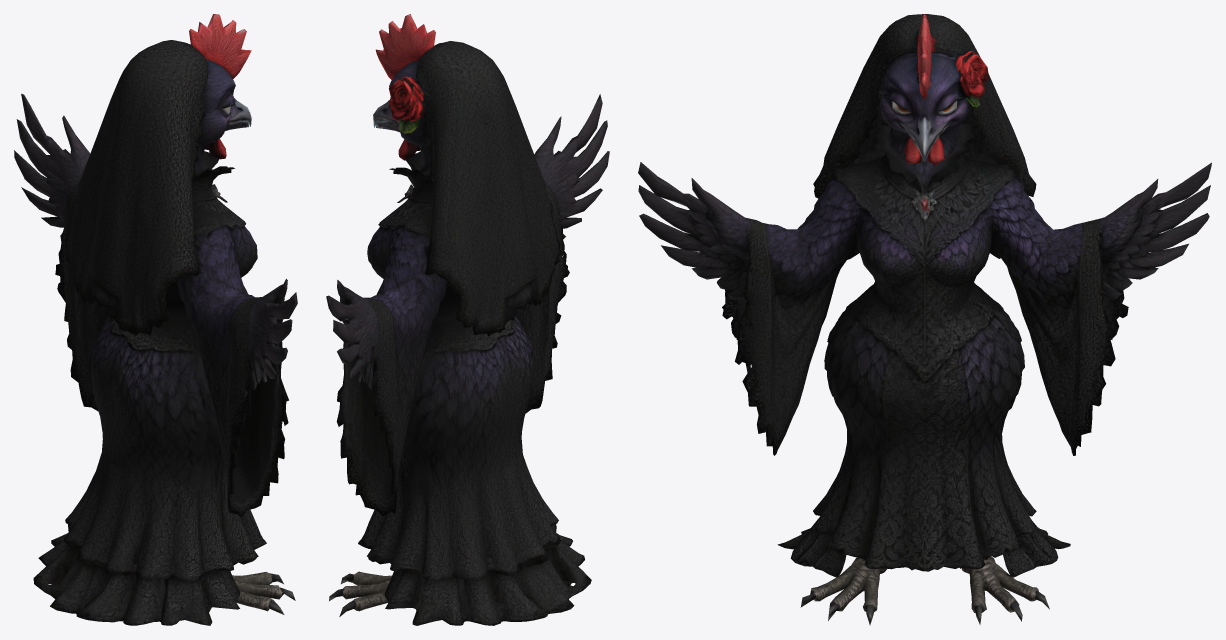
Rendered from valentina.glb.
3 renders of one model, left to right at view 1: azimuth 30°, elevation 25°; view 2: azimuth 150°, elevation 25°; view 3: azimuth 270°, elevation 25°, orthographic. The views are drawn at different scales.
Parts seen in each view (by area): view 1: tripo_node_cc1e1baa-07f7-4f2c-9a3d-b153b3cba629; view 2: tripo_node_cc1e1baa-07f7-4f2c-9a3d-b153b3cba629; view 3: tripo_node_cc1e1baa-07f7-4f2c-9a3d-b153b3cba629.
Part boxes in pixels (bbox=[...]): tripo_node_cc1e1baa-07f7-4f2c-9a3d-b153b3cba629: bbox=[14, 14, 297, 625]; tripo_node_cc1e1baa-07f7-4f2c-9a3d-b153b3cba629: bbox=[326, 14, 609, 625]; tripo_node_cc1e1baa-07f7-4f2c-9a3d-b153b3cba629: bbox=[638, 14, 1211, 625].
Size of the model in its own units: 0.6531 by 1.7 by 1.51.
1 material, 1 textured.
